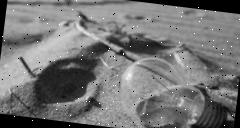lightbulb: (113, 53, 232, 128)
